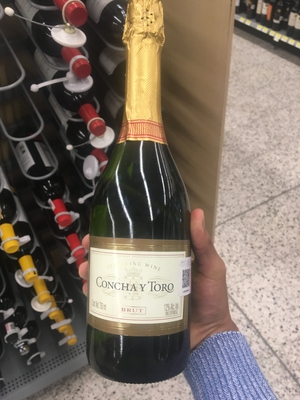brut: (77, 16, 206, 362)
